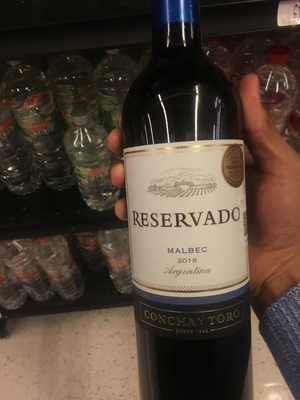reservado malbec: (116, 11, 253, 378)
